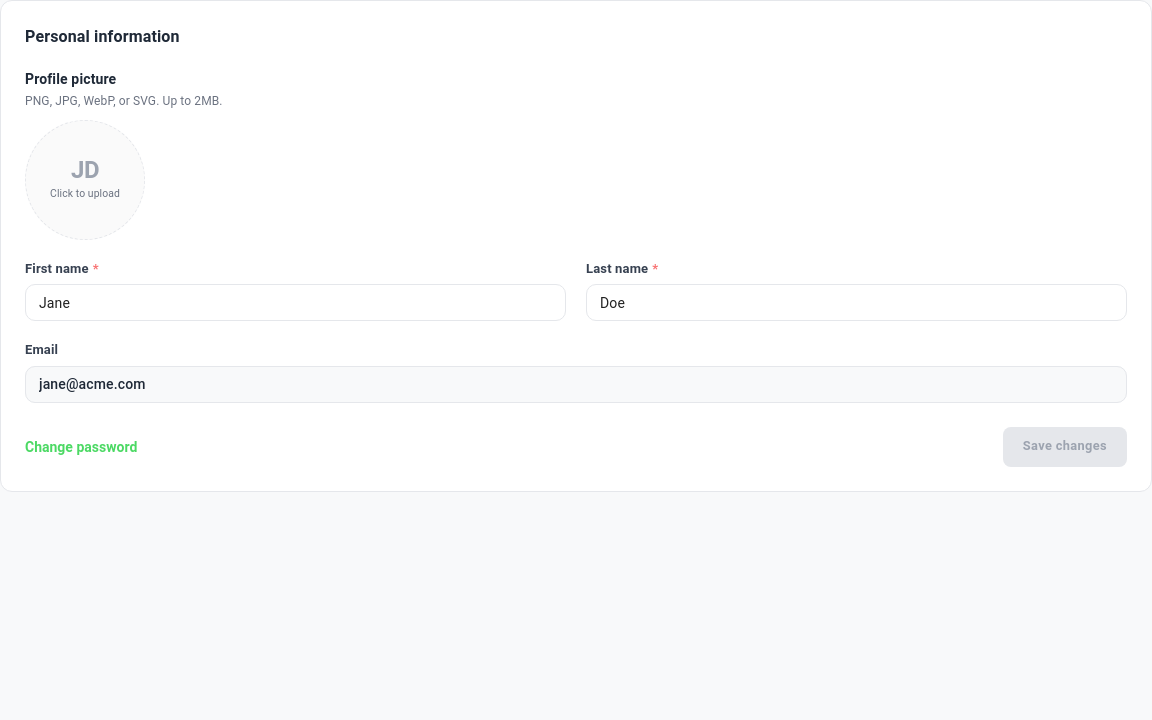
Test case: PersonalTab › Save is disabled until a field changes
Expected: the button "Save changes" is disabled, [1003,427,1127,467]
Type "y" into the field labelled "First name *" at point(296, 303), box [25,284,566,321]
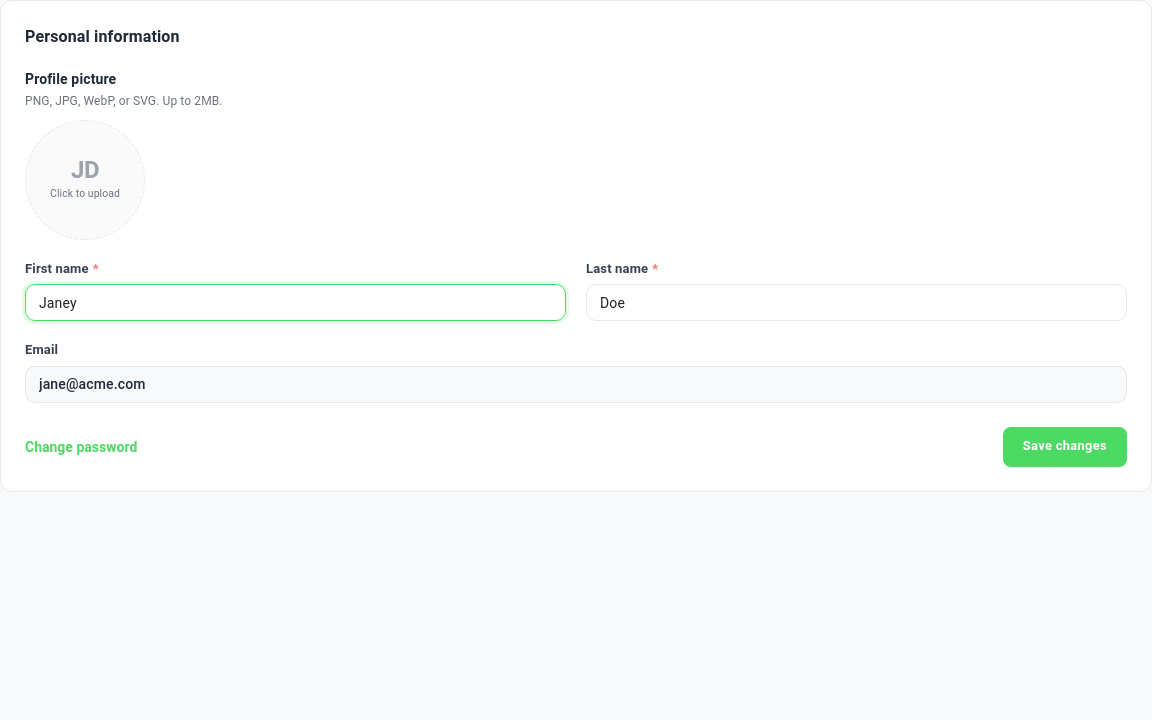
Expected: the button "Save changes" is enabled, [1003,427,1127,467]
